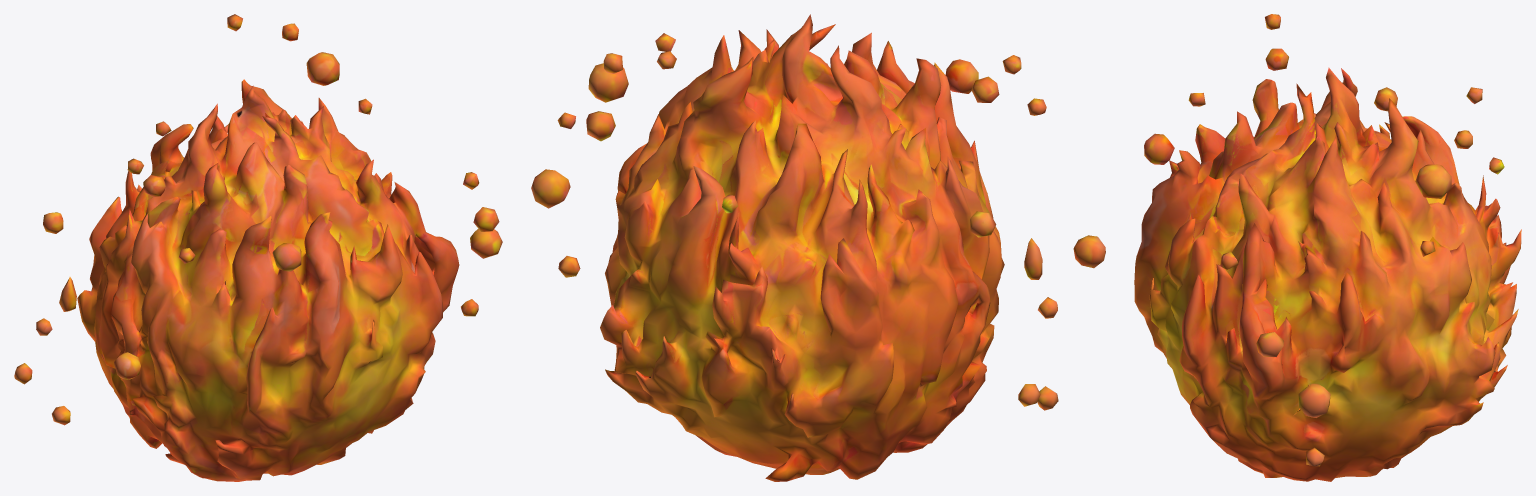
File: GreenOrb.glb
3 renders of one model, left to right at view 1: azimuth 30°, elevation 25°; view 2: azimuth 150°, elevation 25°; view 3: azimuth 270°, elevation 25°, orthographic. The views are drawn at different scales.
Bounding box in the file's own units: 2 × 1.62 × 1.41.
Materials: 1 (1 with a texture image).
